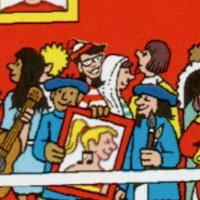wenda: (75, 39, 105, 85)
